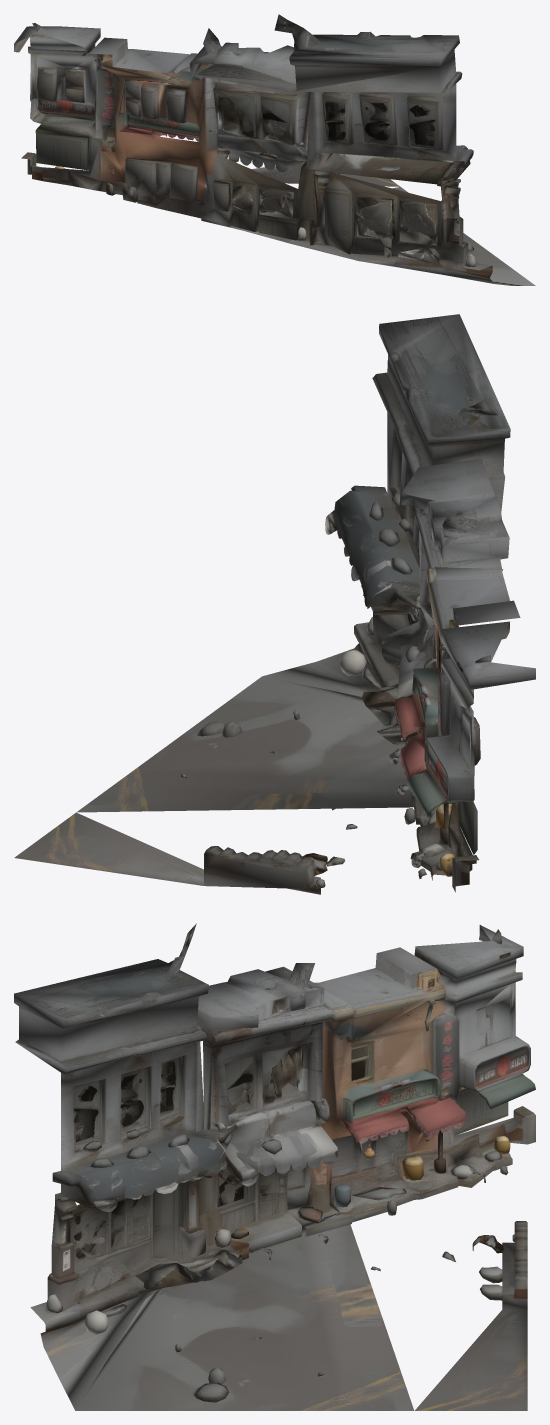
The model's file is shopfront_row.glb.
The picture shows the model from 3 angles, top to bottom: view 1: azimuth 30°, elevation 25°; view 2: azimuth 150°, elevation 25°; view 3: azimuth 270°, elevation 25°; orthographic projection. The views are drawn at different scales.
Visible parts, largest first — view 1: tripo_node_819435b3-738d-4e86-9060-96ec1a572eaf; view 2: tripo_node_819435b3-738d-4e86-9060-96ec1a572eaf; view 3: tripo_node_819435b3-738d-4e86-9060-96ec1a572eaf.
Boxes of the visible parts, x1=… form: tripo_node_819435b3-738d-4e86-9060-96ec1a572eaf: x1=14, y1=14, x2=535, y2=285; tripo_node_819435b3-738d-4e86-9060-96ec1a572eaf: x1=14, y1=314, x2=535, y2=894; tripo_node_819435b3-738d-4e86-9060-96ec1a572eaf: x1=14, y1=923, x2=535, y2=1410.
Size of the model in its own units: 0.998 by 0.7598 by 0.998.
1 material, 1 textured.
